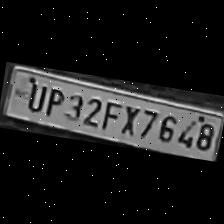2: (80, 94, 102, 127)
3: (62, 90, 83, 122)
4: (174, 113, 196, 148)
6: (154, 109, 178, 144)
7: (136, 105, 158, 140)
8: (192, 117, 215, 152)
F: (98, 98, 121, 131)
P: (41, 85, 67, 119)
U: (22, 78, 48, 112)
X: (117, 102, 141, 136)
